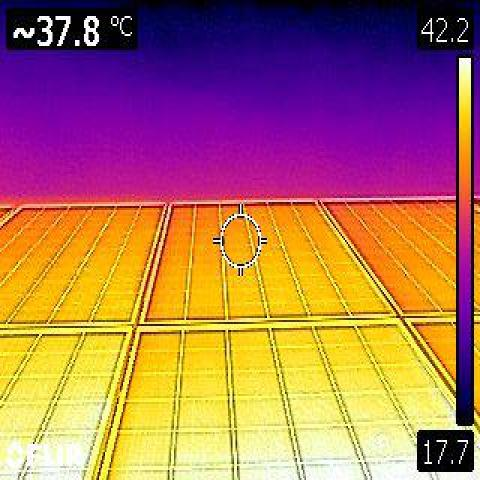fault: (257, 417, 413, 480)
